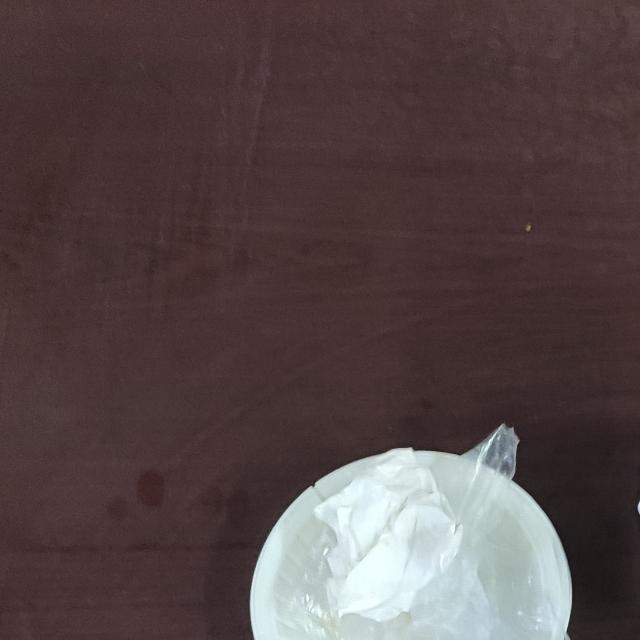kitchen paper: (315, 445, 464, 621)
